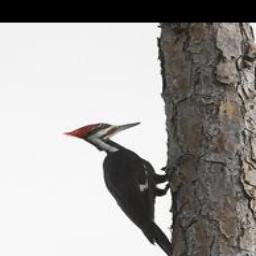Woodpecker: (61, 122, 172, 256)
